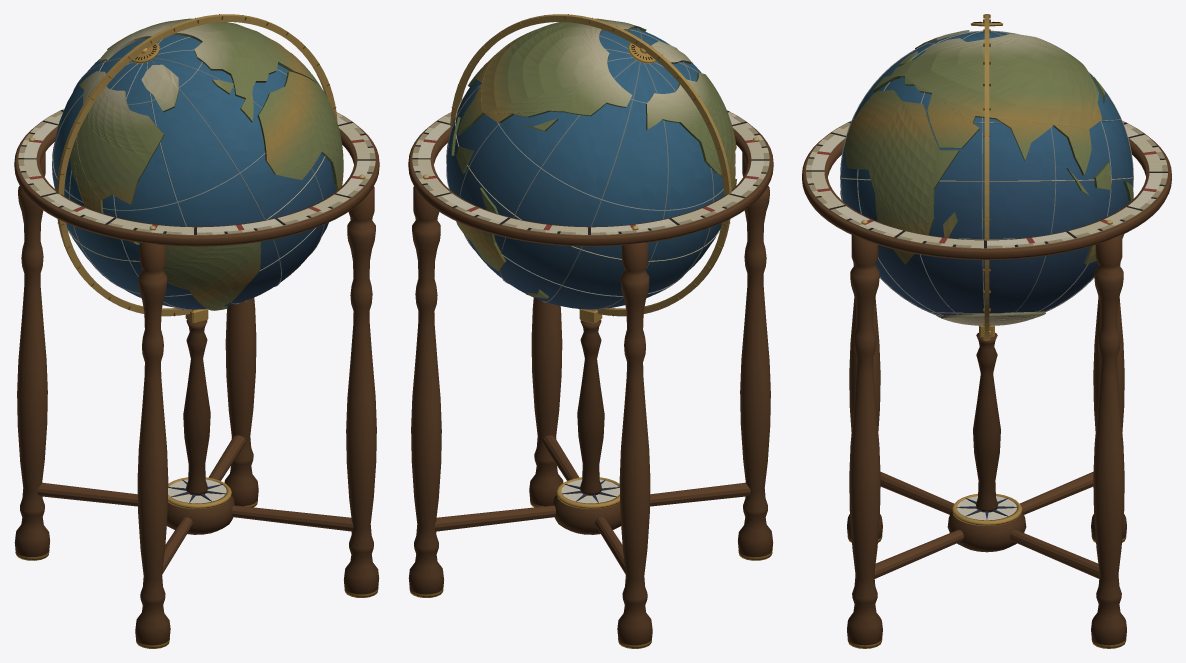
The model's file is globe.glb.
The picture shows the model from 3 angles, left to right: view 1: azimuth 30°, elevation 25°; view 2: azimuth 150°, elevation 25°; view 3: azimuth 270°, elevation 25°; orthographic projection.
Visible parts, largest first — view 1: globe; view 2: globe; view 3: globe.
Boxes of the visible parts, bbox=[...] form: globe: bbox=[14, 14, 379, 648]; globe: bbox=[408, 14, 773, 648]; globe: bbox=[802, 14, 1171, 648].
Bounding box in the file's own units: 0.658 × 1.1 × 0.658.
